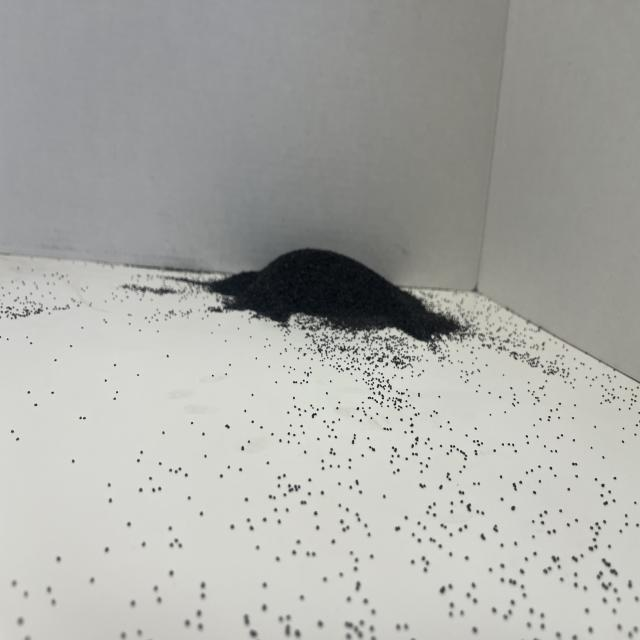Poppy Seeds: (193, 208, 492, 396)
